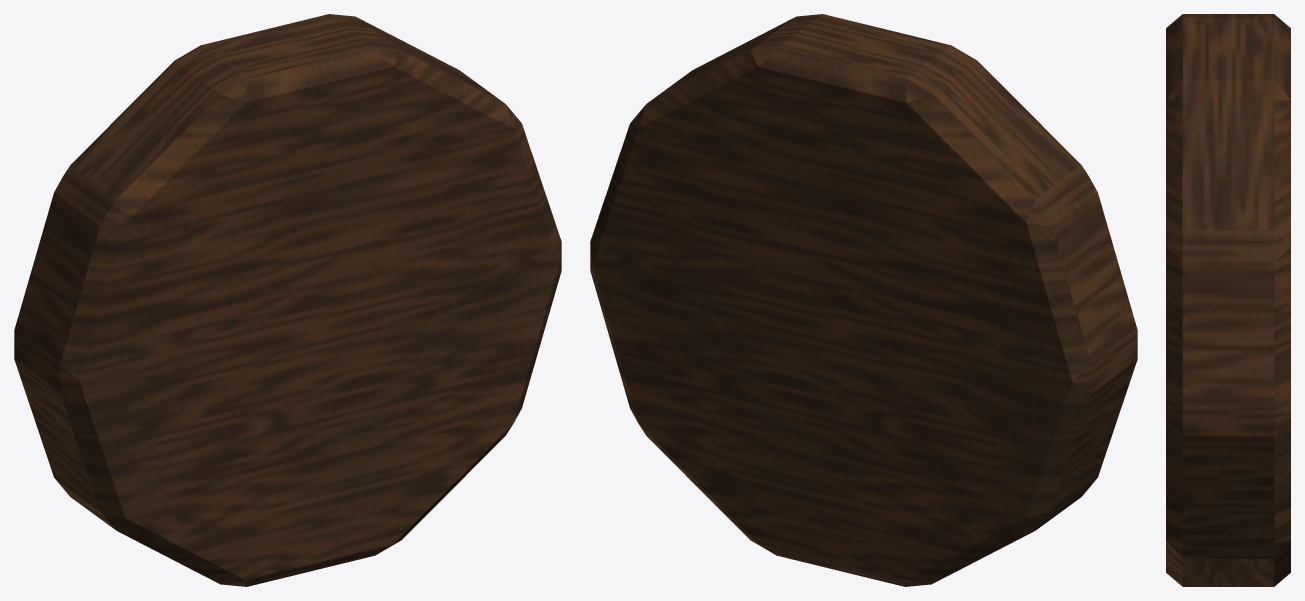
File: WallClock01.fbx
The picture shows the model from 3 angles, left to right: view 1: azimuth 30°, elevation 25°; view 2: azimuth 150°, elevation 25°; view 3: azimuth 270°, elevation 25°; orthographic projection.
Visible parts, largest first — view 1: WallClock01; view 2: WallClock01; view 3: WallClock01.
Boxes of the visible parts, x1,y1,x2,y2 form: WallClock01: [14, 14, 561, 586]; WallClock01: [590, 14, 1137, 586]; WallClock01: [1166, 14, 1290, 586].
Size of the model in its own units: 0.5162 by 0.4998 by 0.1123.
1 material, 1 textured.
